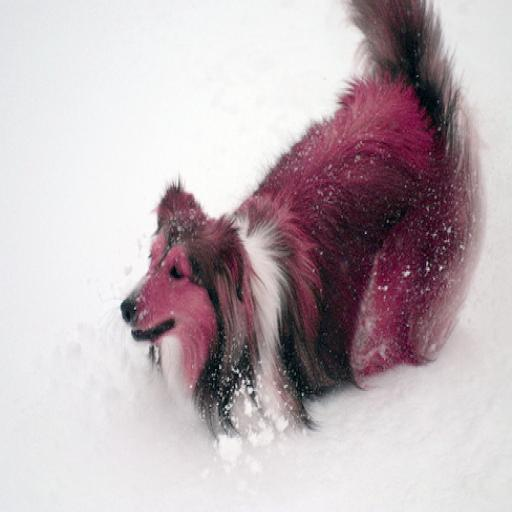dog_face: (116, 188, 238, 350)
